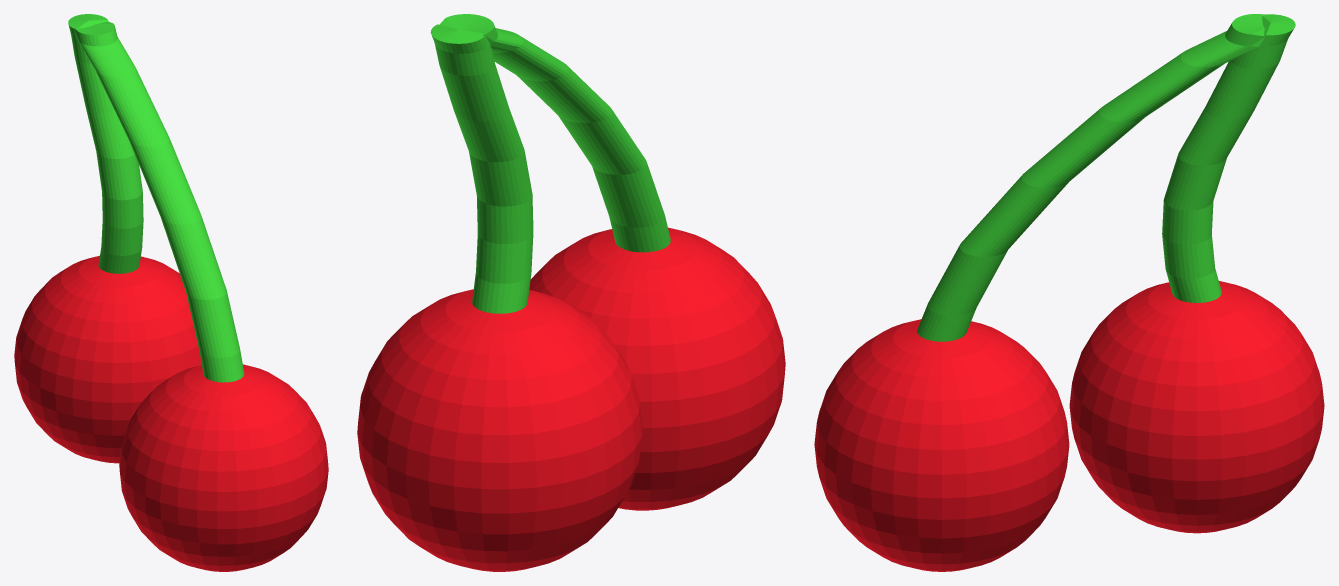
The model's file is cerezas.fbx.
3 renders of one model, left to right at view 1: azimuth 30°, elevation 25°; view 2: azimuth 150°, elevation 25°; view 3: azimuth 270°, elevation 25°, orthographic. The views are drawn at different scales.
Parts seen in each view (by area): view 1: Esfera.001; view 2: Esfera.001; view 3: Esfera.001.
Boxes of the visible parts, box(x1,y1,x2,y2) form: Esfera.001: box(14, 14, 328, 571); Esfera.001: box(357, 14, 785, 571); Esfera.001: box(814, 14, 1324, 571).
Bounding box in the file's own units: 200 × 464 × 400.
